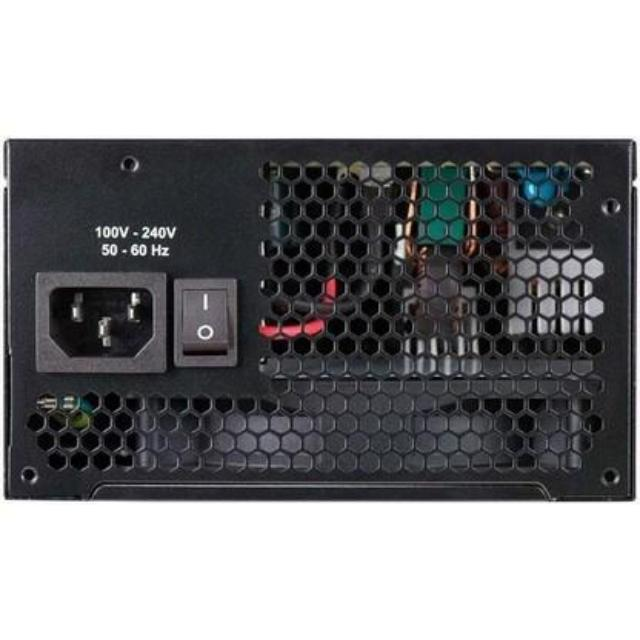PSU: (0, 111, 640, 537)
